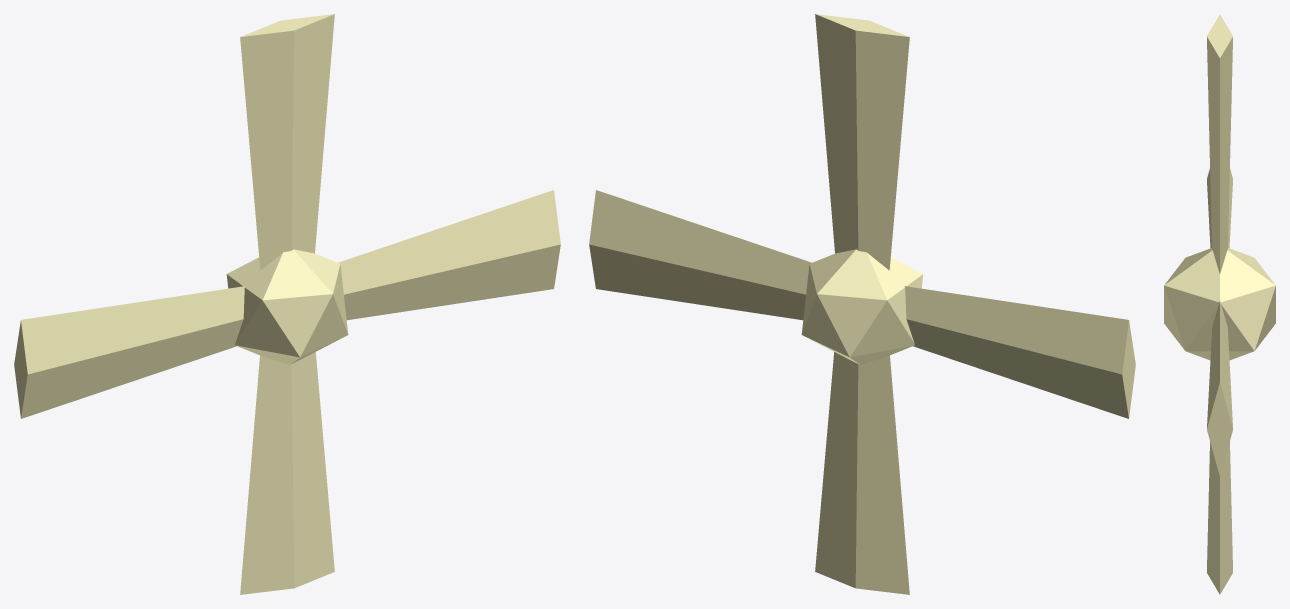
File: FX_Sparkle.fbx
The picture shows the model from 3 angles, left to right: view 1: azimuth 30°, elevation 25°; view 2: azimuth 150°, elevation 25°; view 3: azimuth 270°, elevation 25°; orthographic projection. The views are drawn at different scales.
Visible parts, largest first — view 1: FX_Sparkle; view 2: FX_Sparkle; view 3: FX_Sparkle.
Part boxes in pixels (x1,y1,x2,y2): FX_Sparkle: (14, 14, 560, 594); FX_Sparkle: (589, 14, 1135, 594); FX_Sparkle: (1164, 14, 1275, 594).
Size of the model in its own units: 0.45 by 0.45 by 0.0851.
